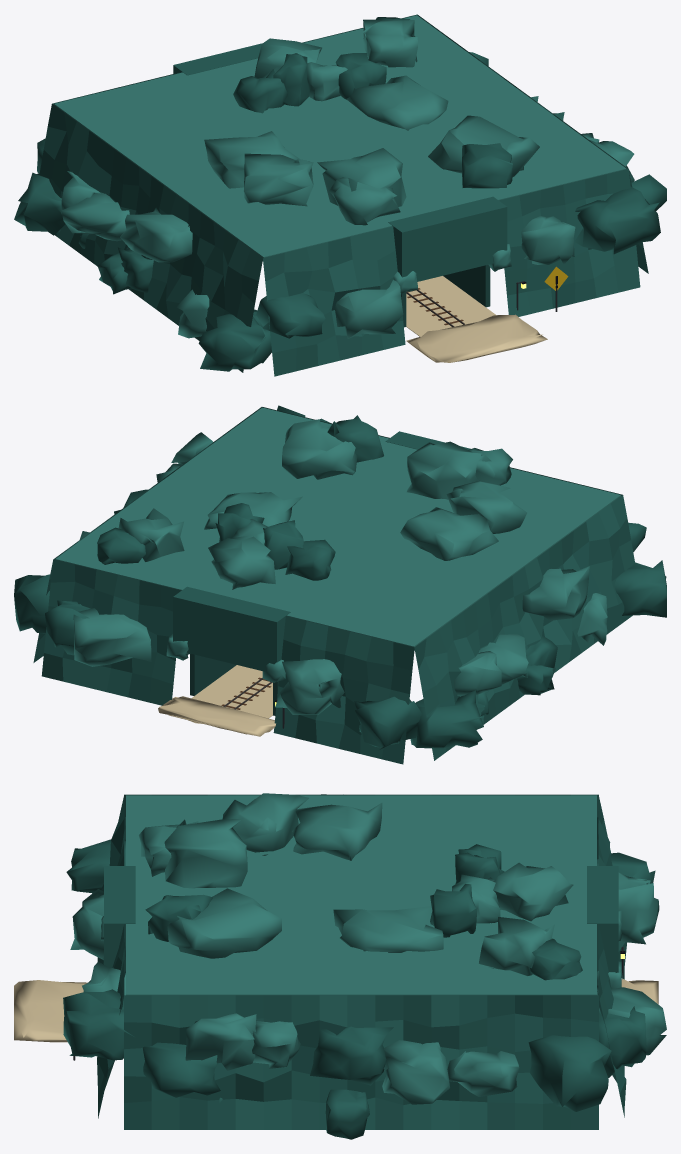
File: tf-cave-p3.glb
The picture shows the model from 3 angles, top to bottom: view 1: azimuth 30°, elevation 25°; view 2: azimuth 150°, elevation 25°; view 3: azimuth 270°, elevation 25°; orthographic projection. The views are drawn at different scales.
Parts seen in each view (by area): view 1: tf-cave-p3; view 2: tf-cave-p3; view 3: tf-cave-p3.
Boxes of the visible parts, <box> form: tf-cave-p3: <box>14,14,666,376</box>; tf-cave-p3: <box>14,405,666,764</box>; tf-cave-p3: <box>14,793,666,1139</box>.
Bounding box in the file's own units: 31.13 × 9.21 × 32.98.
